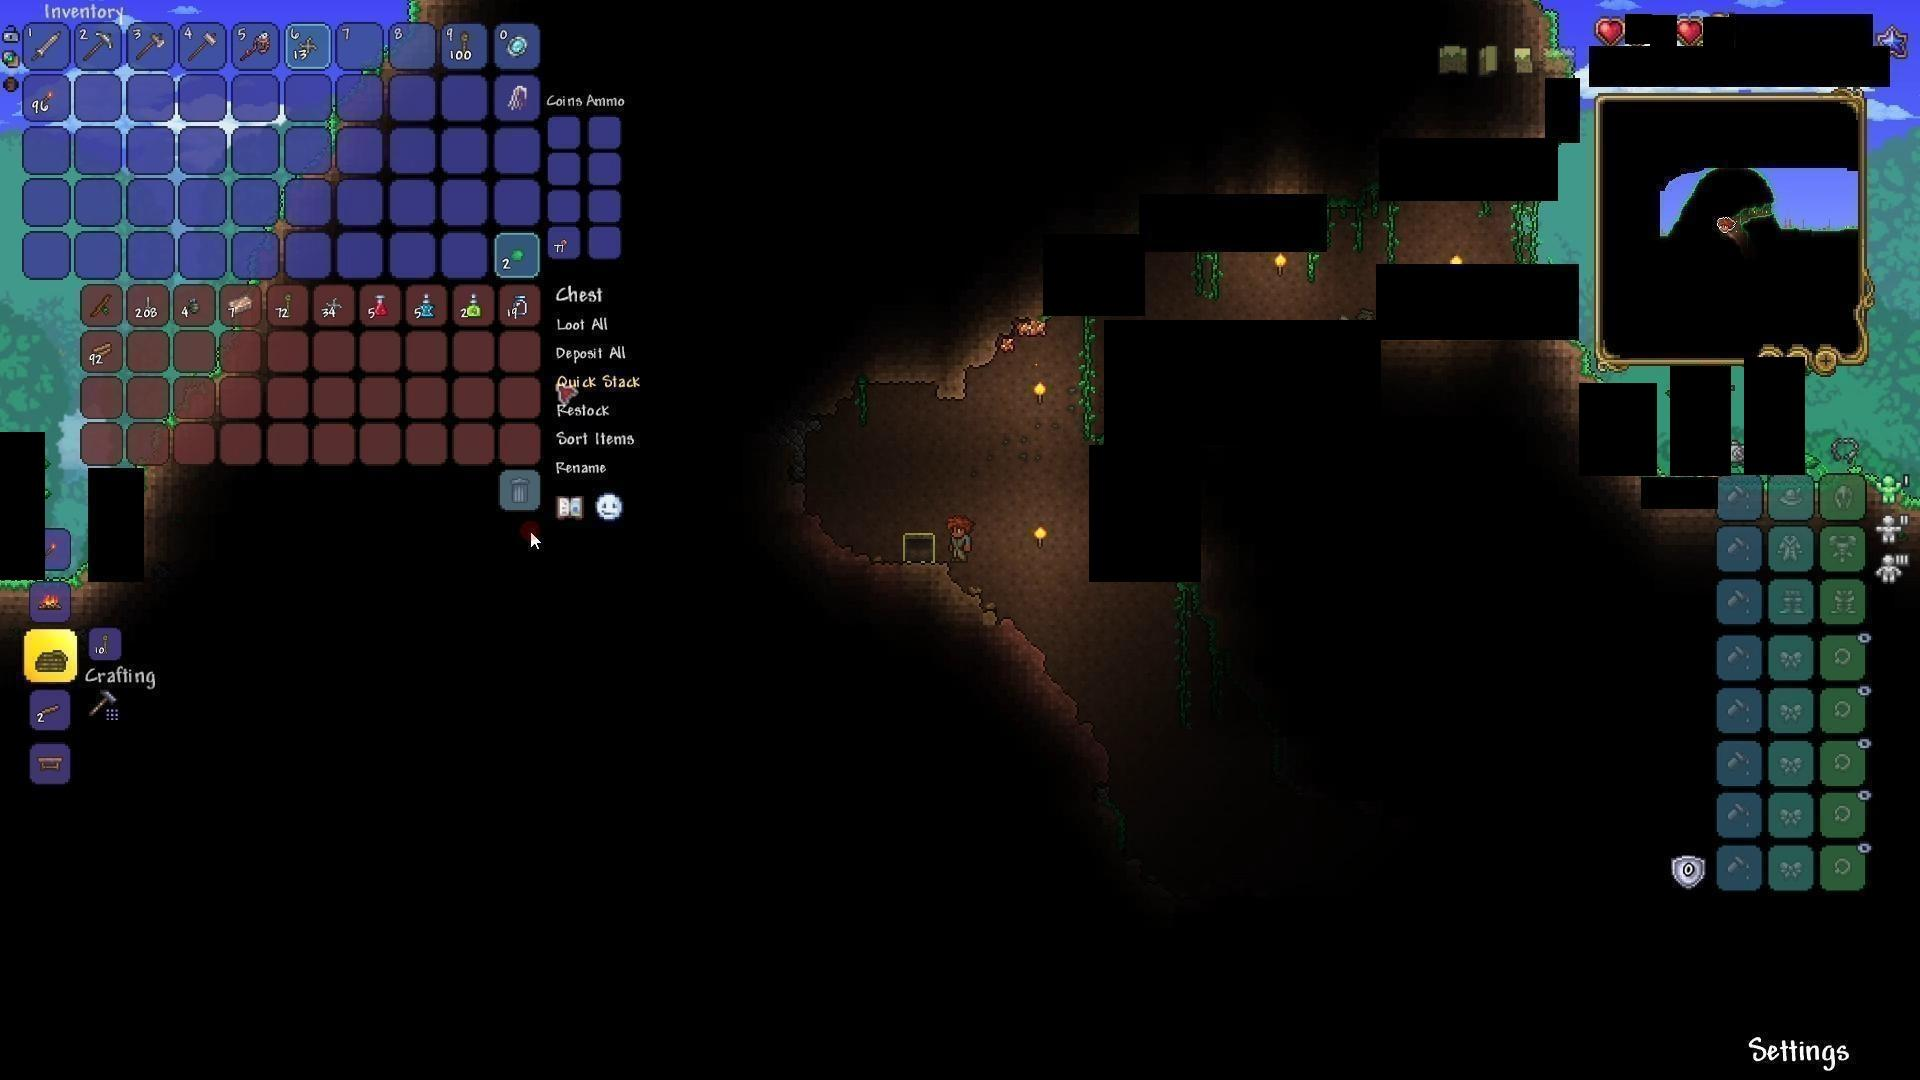dirt: (0, 571, 34, 612)
heart: (1593, 16, 1626, 46), (1676, 15, 1704, 50)
wood: (88, 335, 119, 364)
workbench: (36, 752, 67, 775)
